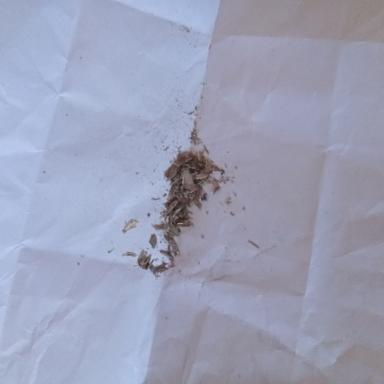pbw: (122, 218, 139, 232), (137, 249, 147, 265), (195, 172, 208, 180), (156, 264, 168, 272)
